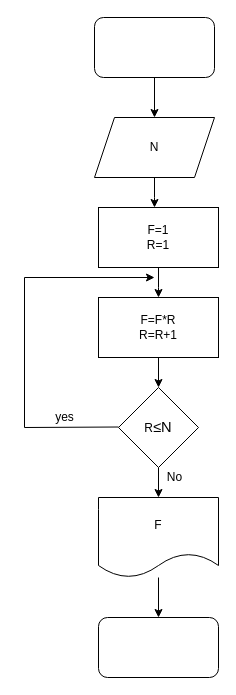
Some shapes in this 236 by 695 pixel diagram are drawn without their labels. The centre of each missing label's shape, as x and y in pixels:
"Конец" belongs at point (158, 647).
"Старт" belongs at point (154, 47).
